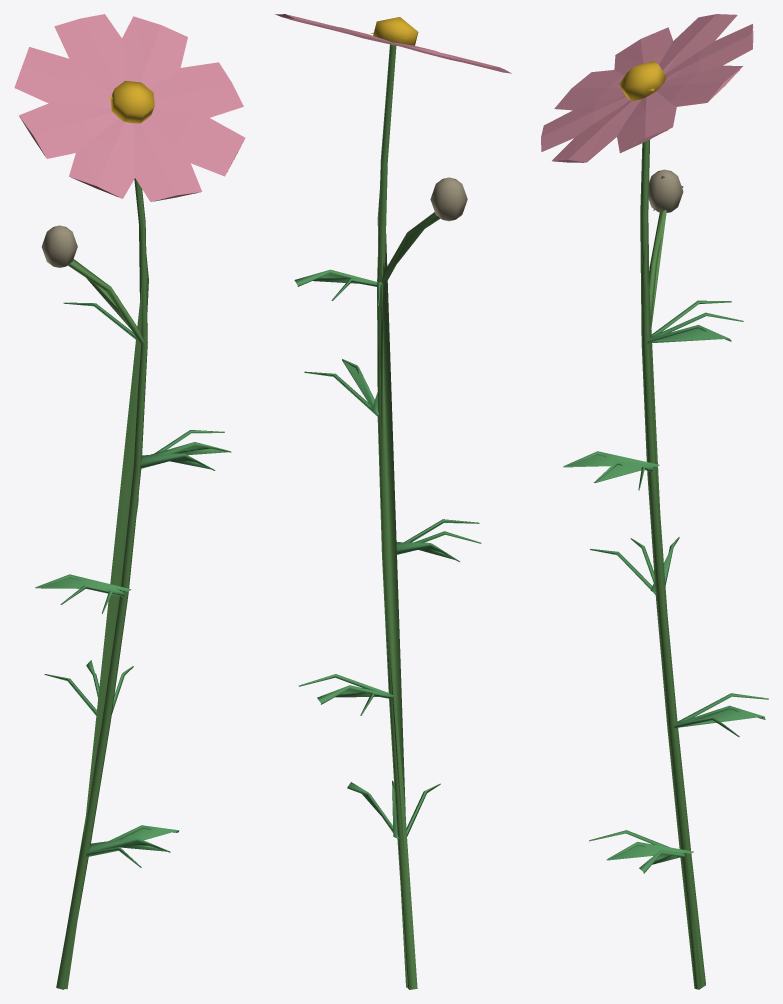
File: cosmos_pink.glb
The picture shows the model from 3 angles, left to right: view 1: azimuth 30°, elevation 25°; view 2: azimuth 150°, elevation 25°; view 3: azimuth 270°, elevation 25°; orthographic projection. The views are drawn at different scales.
Visible parts, largest first — view 1: petal_pink_nl, body__far, stem, center_yellow_nl; view 2: body__far, stem, petal_pink_nl, center_yellow_nl; view 3: petal_pink_nl, stem, body__far, center_yellow_nl, leaf_nl.
Boxes of the visible parts, x1,y1,x2,y2 form: petal_pink_nl: (14,14,245,267); body__far: (25,16,236,989); stem: (56,179,147,989); center_yellow_nl: (110,80,154,123); body__far: (280,16,480,987); stem: (377,44,440,989); petal_pink_nl: (275,14,511,221); center_yellow_nl: (373,17,418,45); petal_pink_nl: (541,14,753,212); stem: (640,139,705,988); body__far: (542,14,768,989); center_yellow_nl: (619,61,666,101); leaf_nl: (563,325,765,873).
Size of the model in its own units: 6.45 by 28.63 by 6.06.
